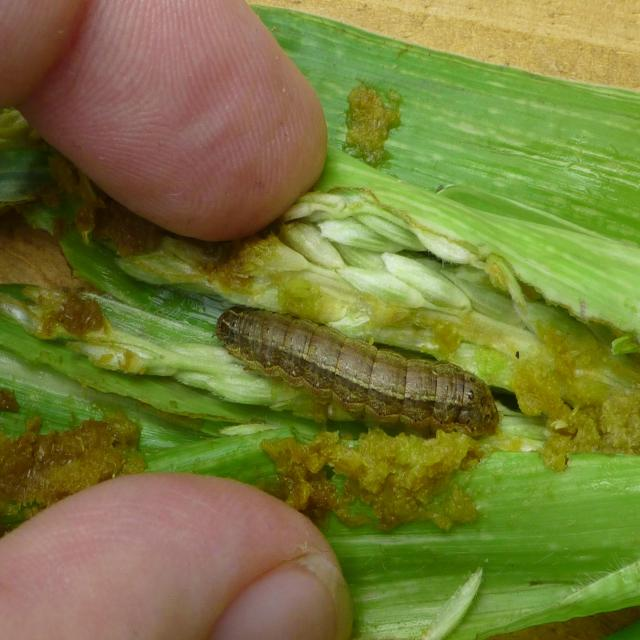army worm: (209, 304, 507, 456)
